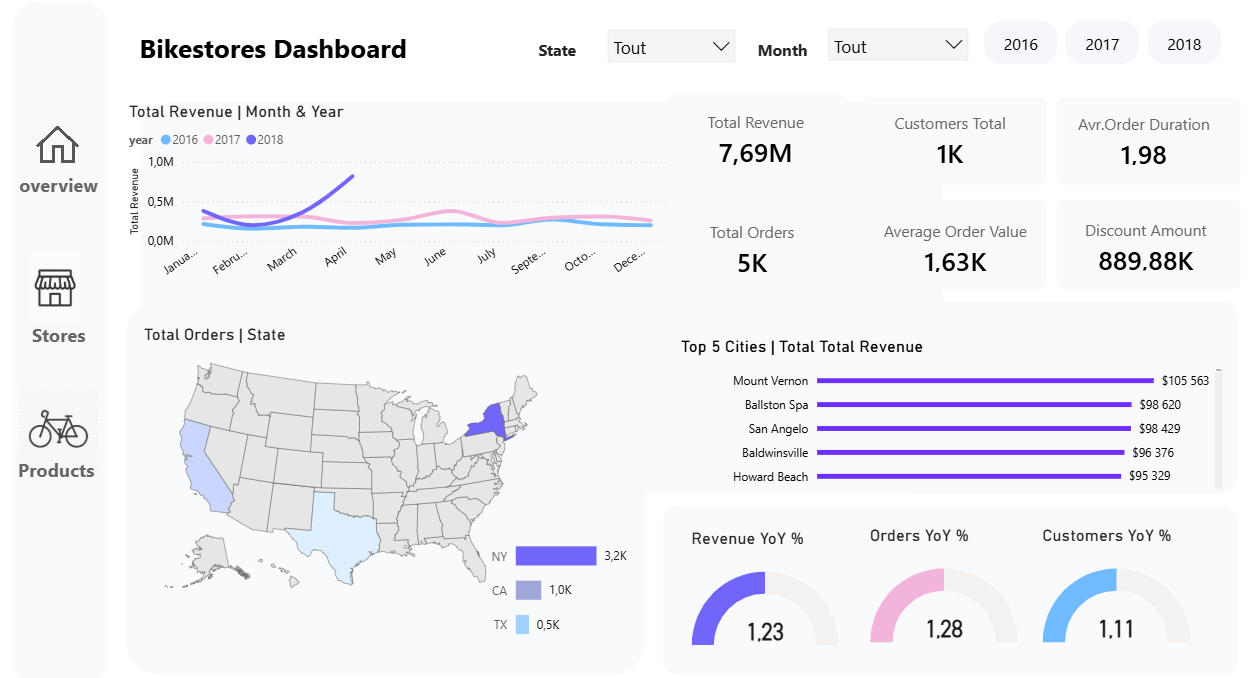

This screenshot's page, from the dashboard's own definition file:
{"tool":"powerbi","page":{"name":"Page 1","canvas":[1280,720],"ordinal":0},"visuals":[{"type":"shape","box":[0,0,1280,720],"z":0},{"type":"shape","box":[14,12,96,694],"z":0,"group":"g6"},{"type":"shape","box":[877.5,107,187.5,90.5],"z":0,"group":"g3"},{"type":"shape","box":[1075.8,107.5,187.5,90.5],"z":0,"group":"g1"},{"type":"shape","box":[1075.8,212.7,187.5,90.5],"z":0,"group":"g4"},{"type":"shape","box":[877.5,213,187.5,90.5],"z":0,"group":"g5"},{"type":"shape","box":[677.1,213.5,187.5,90.5],"z":0,"group":"g2"},{"type":"textbox","box":[129.4,28.1,556.4,53],"z":1000},{"type":"group","id":"g1","title":"Groupe 1","box":[1075.8,107.5,187.5,90.5],"z":1000,"group":"g5"},{"type":"actionButton","title":"Overview ","box":[36,136,48,44],"z":1000,"group":"g6"},{"type":"shape","box":[678.3,106,185.6,90.5],"z":2000,"group":"g5"},{"type":"shape","box":[129.4,314.8,528.3,380.3],"z":2000},{"type":"actionButton","box":[20,402,80,86],"z":2000,"group":"g6"},{"type":"advancedSlicerVisual","fields":{"Values":["dwh dim_date.year"]},"box":[995.8,26.5,252.5,54.5],"z":3000},{"type":"cardVisual","fields":{"Data":["Mesures .Total Revenue"]},"box":[688.2,109.1,162.1,85.7],"z":3000,"group":"g5"},{"type":"actionButton","box":[32,266,52,72],"z":3000,"group":"g6"},{"type":"shape","box":[144,112,816,400],"z":4000},{"type":"cardVisual","fields":{"Data":["Avg(dwh fact_orders.order_duration)"]},"box":[1060.7,112.2,207.3,82.6],"z":4000,"group":"g5"},{"type":"textbox","box":[10,180,102,46],"z":4000,"group":"g6"},{"type":"textbox","box":[138.7,34.3,291.4,54.5],"z":5000},{"type":"group","id":"g2","title":"Groupe 1","box":[673.2,213.5,191.4,90.5],"z":5000,"group":"g5"},{"type":"textbox","box":[14,466,102,44],"z":5000,"group":"g6"},{"type":"group","id":"g3","title":"Groupe 1","box":[874.6,107,190.4,90.5],"z":6000,"group":"g5"},{"type":"lineChart","title":"Total Revenue | Month & Year","fields":{"Y":["Mesures.CA"],"Category":["dwh dim_date.month_name"],"Series":["dwh dim_date.year"]},"box":[128,112,560,208],"z":6000},{"type":"textbox","box":[16,332,90,52],"z":6000,"group":"g6"},{"type":"slicer","fields":{"Values":["dwh dim_date.month_name"]},"box":[833.8,29.6,162.1,60.8],"z":7000},{"type":"group","id":"g4","title":"Groupe 1","box":[1060.1,212.7,211.9,90.5],"z":7000,"group":"g5"},{"type":"textbox","box":[766.8,43.6,67,45.2],"z":8000},{"type":"cardVisual","fields":{"Data":["Mesures .Customers Total"]},"box":[874.6,110.8,185.5,84.2],"z":8000,"group":"g3"},{"type":"cardVisual","fields":{"Data":["Sum(dwh fact_orders.discount_amount)"]},"box":[1060.1,221.1,211.9,81],"z":8000,"group":"g4"},{"type":"cardVisual","fields":{"Data":["Sum(dwh fact_orders.nbre_orders)"]},"box":[673.2,221.2,185.5,82.6],"z":8000,"group":"g2"},{"type":"shapeMap","title":"Total Orders | State","fields":{"Category":["dwh dim_customers.state"],"Value":["Sum(dwh fact_orders.nbre_orders)"]},"box":[143.2,339.9,430.1,286.8],"z":9000},{"type":"clusteredBarChart","fields":{"Y":["Sum(dwh fact_orders.nbre_orders)"],"Category":["dwh dim_customers.state"]},"box":[494,537.7,149.6,137.1],"z":10000},{"type":"shape","box":[674.8,314.8,584.4,196.4],"z":11000},{"type":"shape","box":[674.8,523.6,584.4,171.4],"z":12000},{"type":"group","id":"g5","title":"Groupe 6","box":[673.2,106,598.9,198],"z":13000},{"type":"clusteredBarChart","title":"Top 5 Cities | Total Total Revenue","fields":{"Y":["Mesures .Total Revenue"],"Category":["dwh dim_customers.city"]},"box":[688,352,560,160],"z":14000},{"type":"slicer","fields":{"Values":["dwh dim_customers.state"]},"box":[609.4,31.2,149.6,60.8],"z":15000},{"type":"textbox","box":[543.9,43.6,65.5,37.4],"z":16000},{"type":"cardVisual","fields":{"Data":["Mesures .Average Order Value"]},"box":[866.5,222.9,211.9,81],"z":17000},{"type":"gauge","fields":{"Y":["Mesures .Revenue YoY %"]},"box":[699.7,547,159,127.8],"z":18000},{"type":"gauge","fields":{"Y":["Mesures .Orders YoY %"]},"box":[880,544,160,128],"z":19000},{"type":"gauge","fields":{"Y":["Mesures .Customers YoY %"]},"box":[1056,544,160,128],"z":20000},{"type":"group","id":"g6","title":"Groupe 2","box":[10,12,106,694],"z":21000}]}

Visuals, with their boxes on the page's 1280x720 design canvas (x1, y1, x2, y2). These are canvas units, not pixel positions in the 1249x678 screenshot, which may show the page scaled, cropped or inside an application window:
shape: Rect(0, 0, 1280, 720)
shape: Rect(14, 12, 110, 706)
shape: Rect(878, 107, 1065, 198)
shape: Rect(1076, 108, 1263, 198)
shape: Rect(1076, 213, 1263, 303)
shape: Rect(878, 213, 1065, 304)
shape: Rect(677, 214, 865, 304)
textbox: Rect(129, 28, 686, 81)
"Groupe 1" group: Rect(1076, 108, 1263, 198)
"Overview " actionButton: Rect(36, 136, 84, 180)
shape: Rect(678, 106, 864, 196)
shape: Rect(129, 315, 658, 695)
actionButton: Rect(20, 402, 100, 488)
advancedSlicerVisual - dwh dim_date.year: Rect(996, 26, 1248, 81)
cardVisual - Mesures .Total Revenue: Rect(688, 109, 850, 195)
actionButton: Rect(32, 266, 84, 338)
shape: Rect(144, 112, 960, 512)
cardVisual - Avg(dwh fact_orders.order_duration): Rect(1061, 112, 1268, 195)
textbox: Rect(10, 180, 112, 226)
textbox: Rect(139, 34, 430, 89)
"Groupe 1" group: Rect(673, 214, 865, 304)
textbox: Rect(14, 466, 116, 510)
"Groupe 1" group: Rect(875, 107, 1065, 198)
"Total Revenue | Month & Year" lineChart: Rect(128, 112, 688, 320)
textbox: Rect(16, 332, 106, 384)
slicer - dwh dim_date.month_name: Rect(834, 30, 996, 90)
"Groupe 1" group: Rect(1060, 213, 1272, 303)
textbox: Rect(767, 44, 834, 89)
cardVisual - Mesures .Customers Total: Rect(875, 111, 1060, 195)
cardVisual - Sum(dwh fact_orders.discount_amount): Rect(1060, 221, 1272, 302)
cardVisual - Sum(dwh fact_orders.nbre_orders): Rect(673, 221, 859, 304)
"Total Orders | State" shapeMap: Rect(143, 340, 573, 627)
clusteredBarChart - Sum(dwh fact_orders.nbre_orders) x dwh dim_customers.state: Rect(494, 538, 644, 675)
shape: Rect(675, 315, 1259, 511)
shape: Rect(675, 524, 1259, 695)
"Groupe 6" group: Rect(673, 106, 1272, 304)
"Top 5 Cities | Total Total Revenue" clusteredBarChart: Rect(688, 352, 1248, 512)
slicer - dwh dim_customers.state: Rect(609, 31, 759, 92)
textbox: Rect(544, 44, 609, 81)
cardVisual - Mesures .Average Order Value: Rect(866, 223, 1078, 304)
gauge - Mesures .Revenue YoY %: Rect(700, 547, 859, 675)
gauge - Mesures .Orders YoY %: Rect(880, 544, 1040, 672)
gauge - Mesures .Customers YoY %: Rect(1056, 544, 1216, 672)
"Groupe 2" group: Rect(10, 12, 116, 706)
